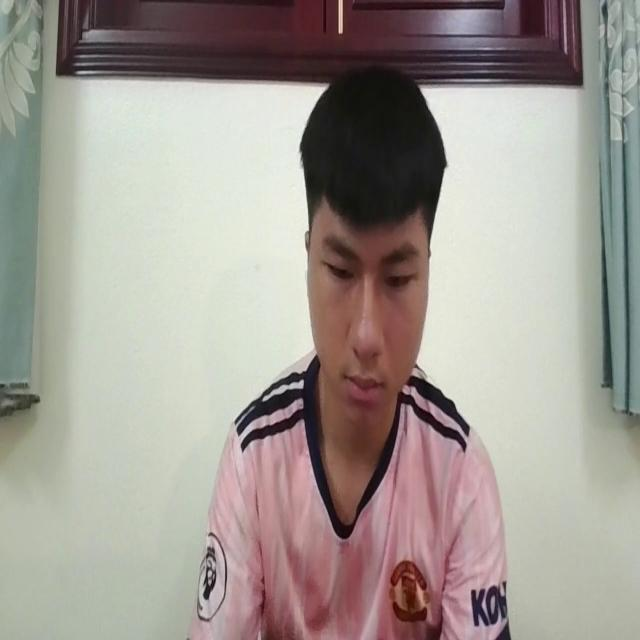student: (192, 55, 509, 640)
